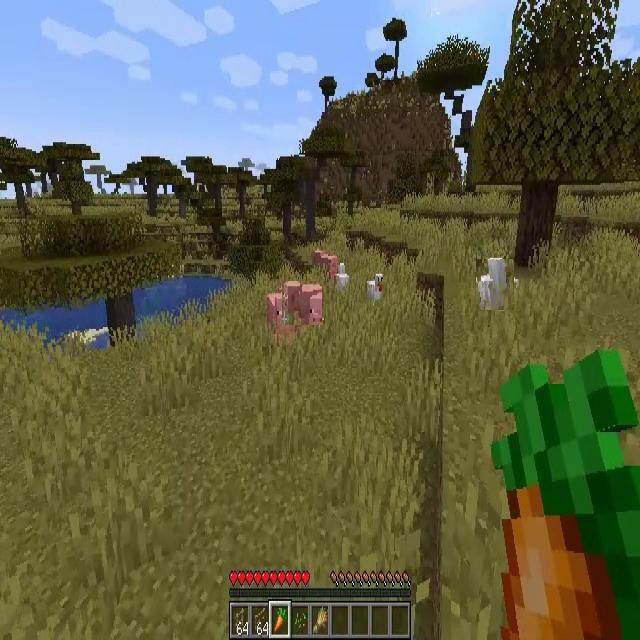duck: (476, 259, 514, 310), (364, 273, 386, 302), (335, 263, 348, 297)
pig: (282, 281, 322, 325), (271, 292, 293, 336)
